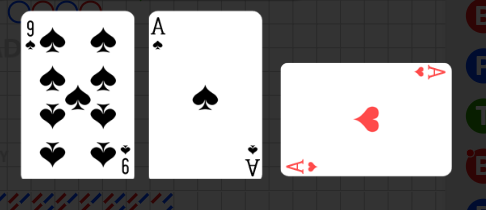9S: (119, 143, 132, 176)
AH: (285, 157, 321, 174), (411, 65, 447, 81)
